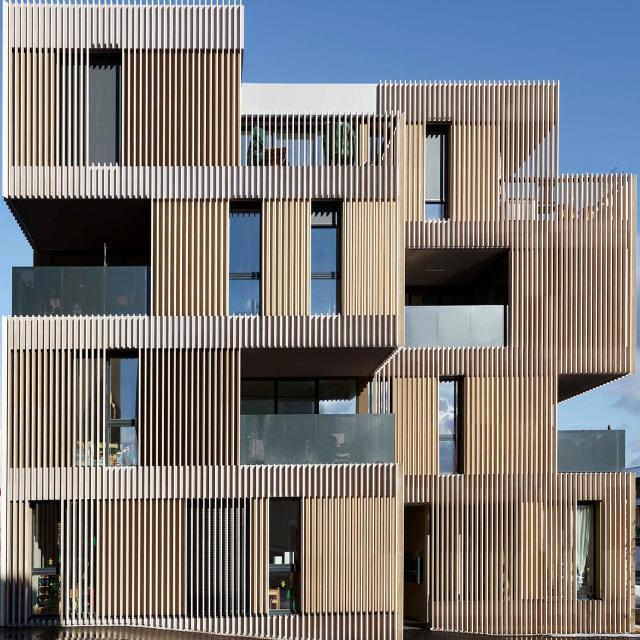Railing: (9, 265, 149, 317), (241, 418, 394, 461), (403, 306, 504, 348), (556, 433, 628, 472)
door: (405, 508, 425, 622)
wall: (2, 0, 637, 639)
windows: (242, 378, 357, 418), (228, 206, 262, 318), (30, 502, 63, 616), (269, 500, 302, 612), (107, 355, 135, 466), (90, 53, 117, 165), (310, 225, 340, 318), (438, 380, 462, 476), (577, 504, 597, 598), (424, 133, 445, 219)
